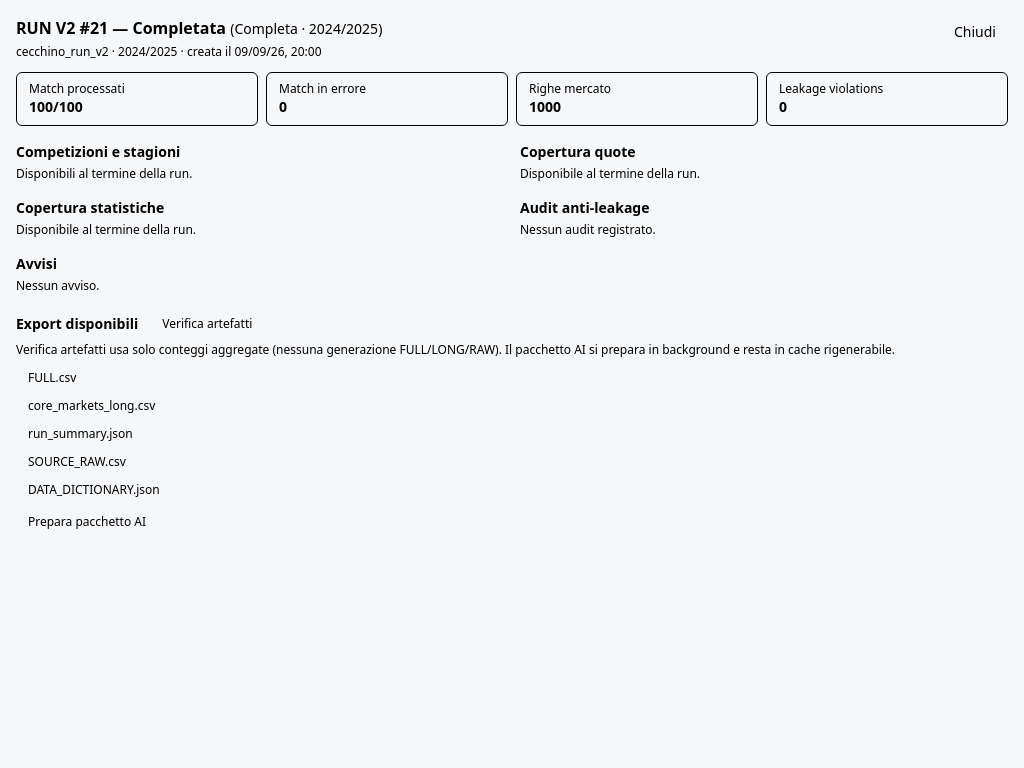
Test: CecchinoRunV2DetailPanel AI bundle async › su interrupted retryable consente un nuovo Prepara
The width and height of the screenshot is (1024, 768).
Step 1. Click the button with test id "run-v2-prepare-ai-bundle-21" → (87, 522), box [16,510,158,534]
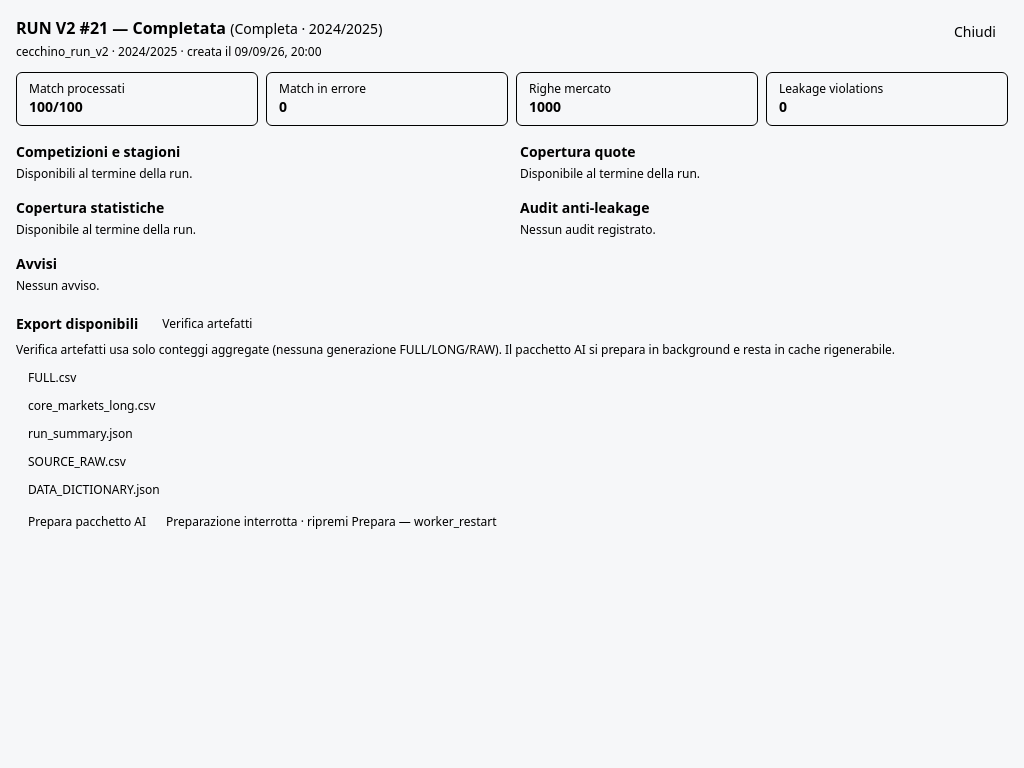
Expected: the text with test id "run-v2-ai-bundle-status-21" shows "Preparazione interrotta", [166,513,396,530]
Step 2. Click the button with test id "run-v2-prepare-ai-bundle-21" → (87, 522), box [16,510,158,534]
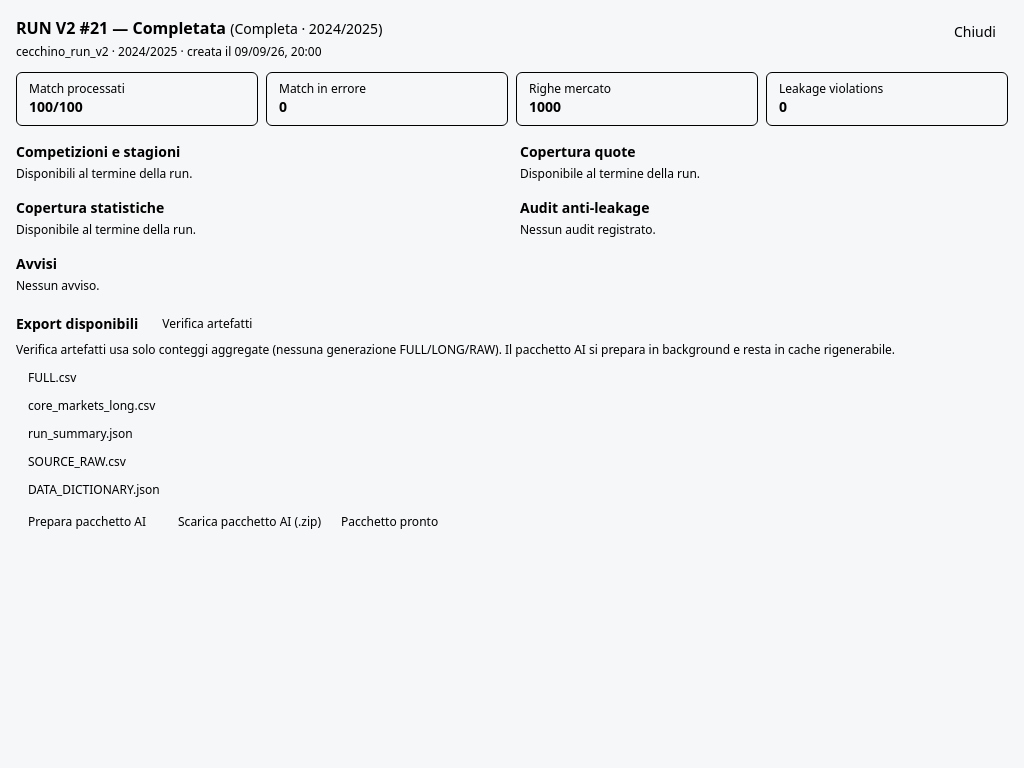
Expected: the button with test id "run-v2-export-ai-bundle-21" is shown, [166,510,333,534]
